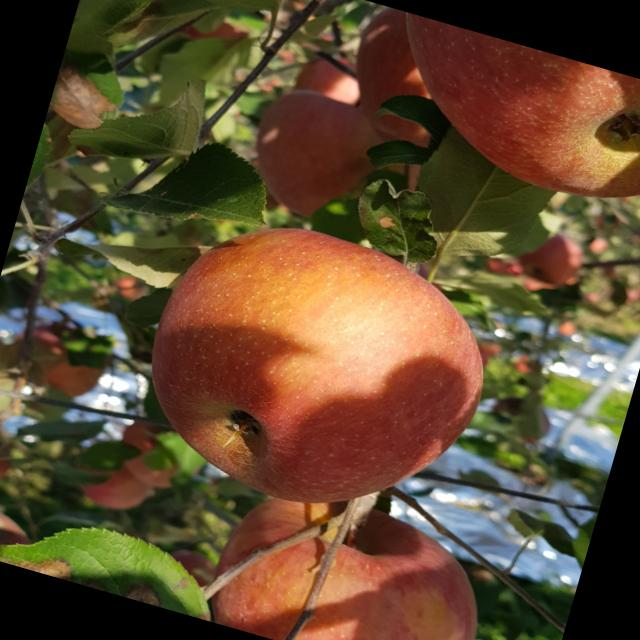fresh: (105, 185, 532, 554)
